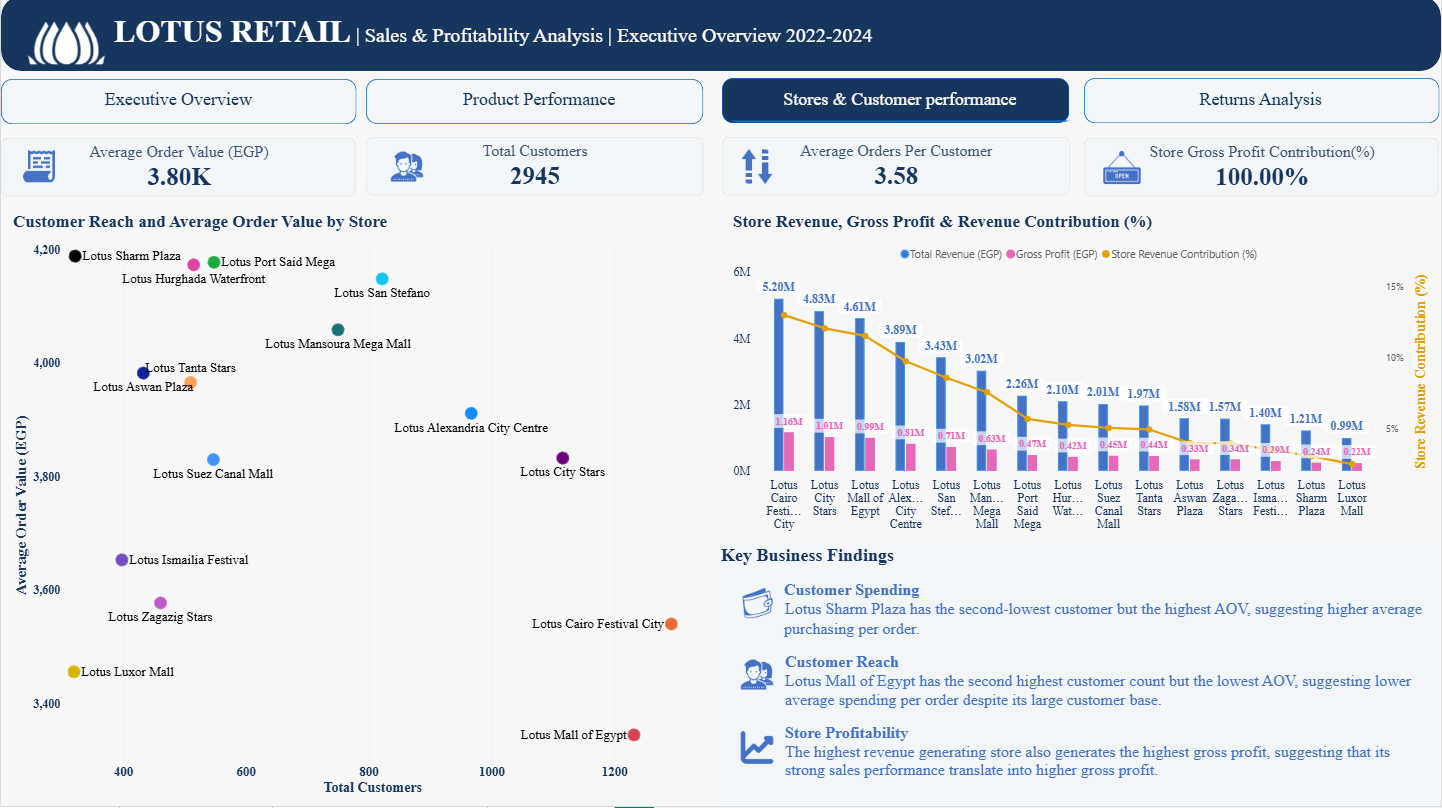

Layout of this report page (visuals, bound fields, positions):
{"tool":"powerbi","page":{"name":"Stores & Customer performance","canvas":[1920,1080],"ordinal":2},"visuals":[{"type":"shape","box":[0,0,1920,100],"z":0},{"type":"image","box":[9.6,0,156.9,126.4],"z":1000},{"type":"textbox","box":[150.8,22.3,1248.3,78.2],"z":2000},{"type":"shape","box":[0,111,474,60.3],"z":3000},{"type":"shape","box":[487.3,110.3,449.6,60],"z":4000},{"type":"shape","box":[960.7,108.9,463,60.3],"z":7000},{"type":"shape","box":[1443.8,108.9,474,60.3],"z":9000},{"type":"cardVisual","fields":{"Data":["Measures (2).AOV"]},"box":[0,189.9,473.4,78],"z":11000},{"type":"image","box":[22.3,201.1,56,52],"z":12000},{"type":"cardVisual","fields":{"Data":["Measures (2).Total Customers"]},"box":[487.3,188.5,449.6,78],"z":13000},{"type":"image","box":[513.9,201.1,56,52],"z":17000},{"type":"cardVisual","fields":{"Data":["Measures (2).Average Orders Per Customer"]},"box":[960.7,188.5,463.6,78.2],"z":18000},{"type":"image","box":[980.2,201.1,56,52],"z":19000},{"type":"cardVisual","fields":{"Data":["Measures (2).Gross Profit (%)"]},"box":[1443.8,189.9,473.4,78.2],"z":20000},{"type":"image","box":[1466.2,202.5,56,52],"z":21000},{"type":"lineClusteredColumnComboChart","title":"Store Revenue, Gross Profit & Revenue Contribution (%)","fields":{"Category":["Stores.store_name"],"Y":["Measures (2).Total Revenue (EGP)","Measures (2).Gross Profit (EGP)"],"Y2":["Measures (2).Store Revenue Contribution (%)"]},"box":[960,272.9,958.6,457.6],"z":22000},{"type":"scatterChart","title":"Customer Reach and Average Order Value by Store","fields":{"Series":["Stores.store_name"],"X":["Measures (2).Total Customers"],"Y":["Measures (2).Average Order Value (EGP)"]},"box":[0,272.9,936.2,807.5],"z":23000},{"type":"textbox","box":[960,731.4,958.4,349.2],"z":24000},{"type":"image","box":[979.6,783.7,56,52],"z":25000},{"type":"image","box":[979.6,878.8,56,52],"z":26000},{"type":"image","box":[979.6,975.4,56,52],"z":27000},{"type":"pageNavigator","box":[0,108.5,1918.5,60.4],"z":27001}]}

Visuals, with their boxes in screenshot pixels (x1, y1, x2, y2), scaled from the page's 1920x1080 canvas onto the 1442x808 screenshot:
shape: [left=0, top=0, right=1441, bottom=75]
image: [left=7, top=0, right=125, bottom=95]
textbox: [left=113, top=17, right=1051, bottom=75]
shape: [left=0, top=83, right=356, bottom=128]
shape: [left=366, top=83, right=704, bottom=127]
shape: [left=722, top=81, right=1069, bottom=127]
shape: [left=1084, top=81, right=1440, bottom=127]
cardVisual - Measures (2).AOV: [left=0, top=142, right=356, bottom=200]
image: [left=17, top=150, right=59, bottom=189]
cardVisual - Measures (2).Total Customers: [left=366, top=141, right=704, bottom=199]
image: [left=386, top=150, right=428, bottom=189]
cardVisual - Measures (2).Average Orders Per Customer: [left=722, top=141, right=1070, bottom=200]
image: [left=736, top=150, right=778, bottom=189]
cardVisual - Measures (2).Gross Profit (%): [left=1084, top=142, right=1440, bottom=201]
image: [left=1101, top=152, right=1143, bottom=190]
"Store Revenue, Gross Profit & Revenue Contribution (%)" lineClusteredColumnComboChart: [left=721, top=204, right=1441, bottom=547]
"Customer Reach and Average Order Value by Store" scatterChart: [left=0, top=204, right=703, bottom=807]
textbox: [left=721, top=547, right=1441, bottom=807]
image: [left=736, top=586, right=778, bottom=625]
image: [left=736, top=657, right=778, bottom=696]
image: [left=736, top=730, right=778, bottom=769]
pageNavigator: [left=0, top=81, right=1441, bottom=126]
